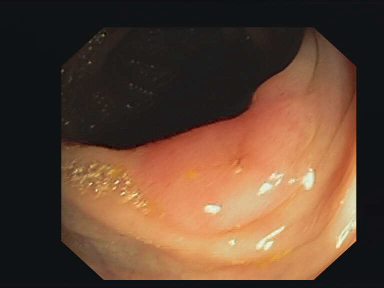polyp: (174, 130, 275, 178)
